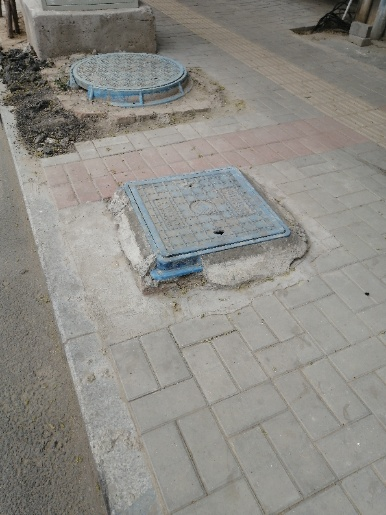well: (128, 165, 296, 279), (69, 50, 189, 106)
